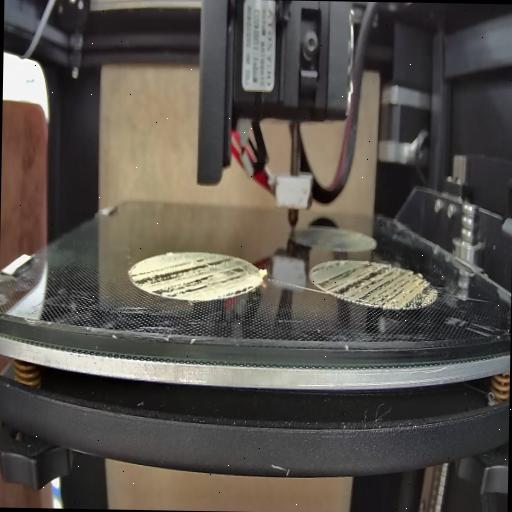under_extrusion: (311, 264, 431, 310), (130, 258, 252, 298)
